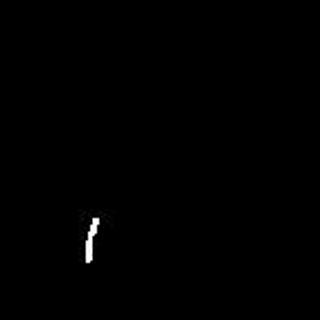one: (81, 213, 99, 265)
